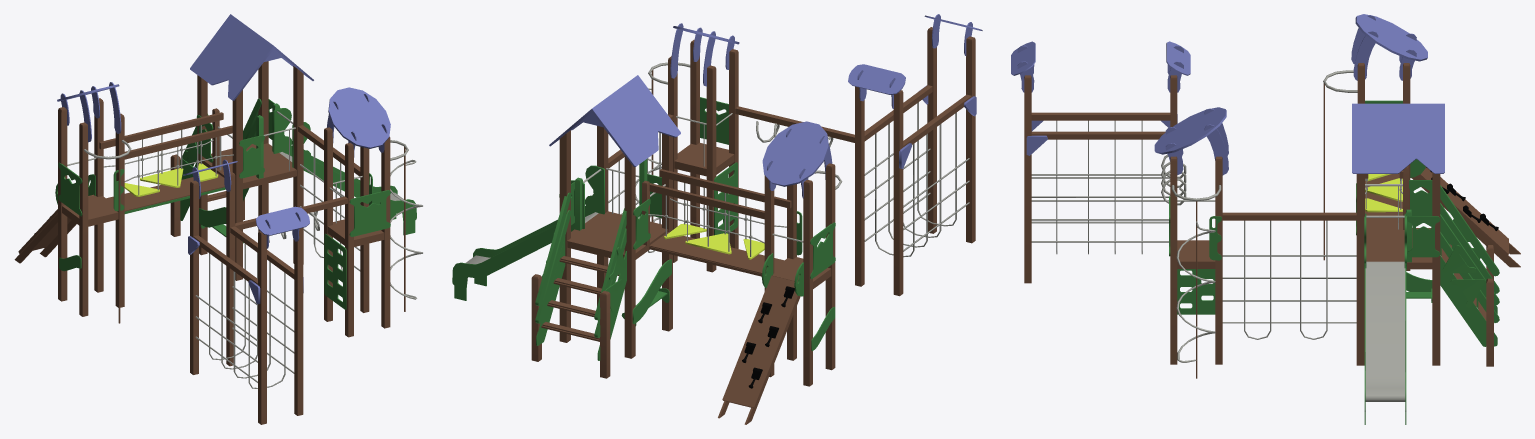
File: детский спортивный комплекс большой .glb
The picture shows the model from 3 angles, left to right: view 1: azimuth 30°, elevation 25°; view 2: azimuth 150°, elevation 25°; view 3: azimuth 270°, elevation 25°; orthographic projection. The views are drawn at different scales.
Parts seen in each view (by area): view 1: Mesh022_3; view 2: Mesh022_3; view 3: Mesh022_3.
Part boxes in pixels (<box>): Mesh022_3: <box>14,14,422,424</box>; Mesh022_3: <box>452,14,982,424</box>; Mesh022_3: <box>1011,14,1520,424</box>.
Bounding box in the file's own units: 9.38 × 5.98 × 11.26.
